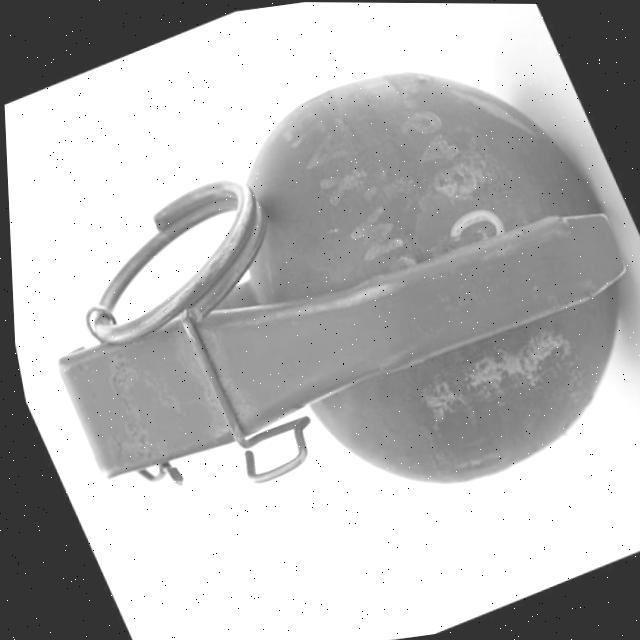grenade: (0, 0, 640, 634)
